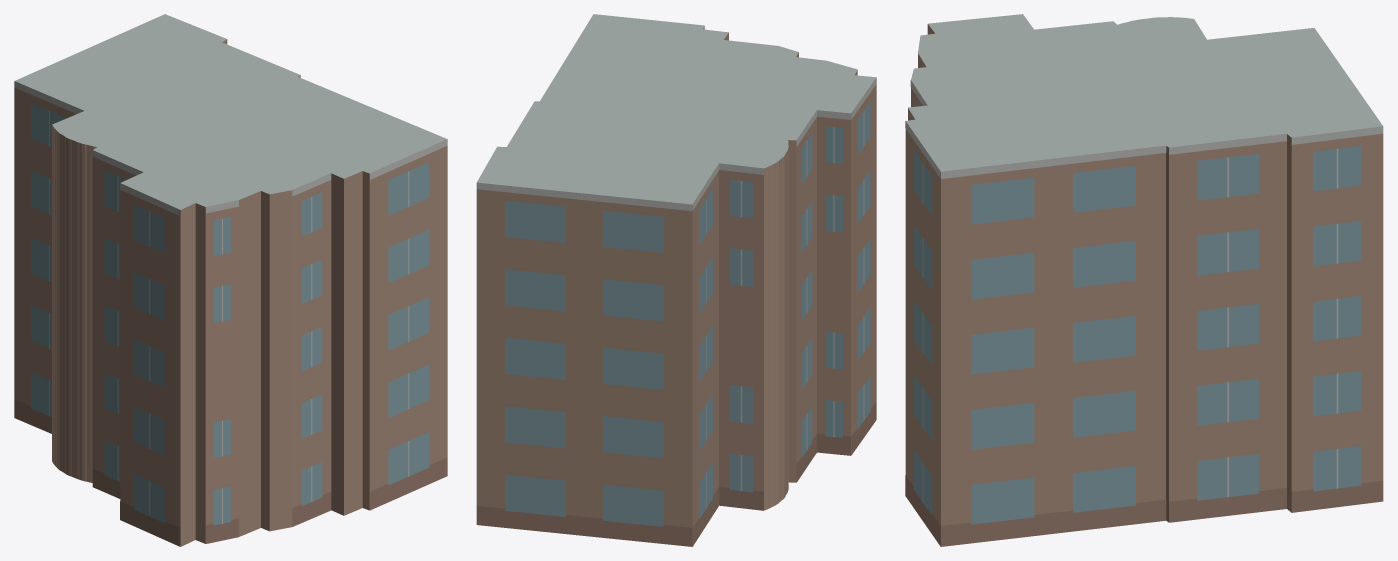
The model's file is survey-upis-33047629.glb.
The picture shows the model from 3 angles, left to right: view 1: azimuth 30°, elevation 25°; view 2: azimuth 150°, elevation 25°; view 3: azimuth 270°, elevation 25°; orthographic projection. The views are drawn at different scales.
Visible parts, largest first — view 1: survey-upis-33047629.tmp; view 2: survey-upis-33047629.tmp; view 3: survey-upis-33047629.tmp.
Boxes of the visible parts, left/top/right/bottom form: survey-upis-33047629.tmp: left=14, top=14, right=447, bottom=546; survey-upis-33047629.tmp: left=476, top=14, right=876, bottom=546; survey-upis-33047629.tmp: left=905, top=14, right=1383, bottom=546.
Size of the model in its own units: 11.38 by 12.6 by 14.56.
